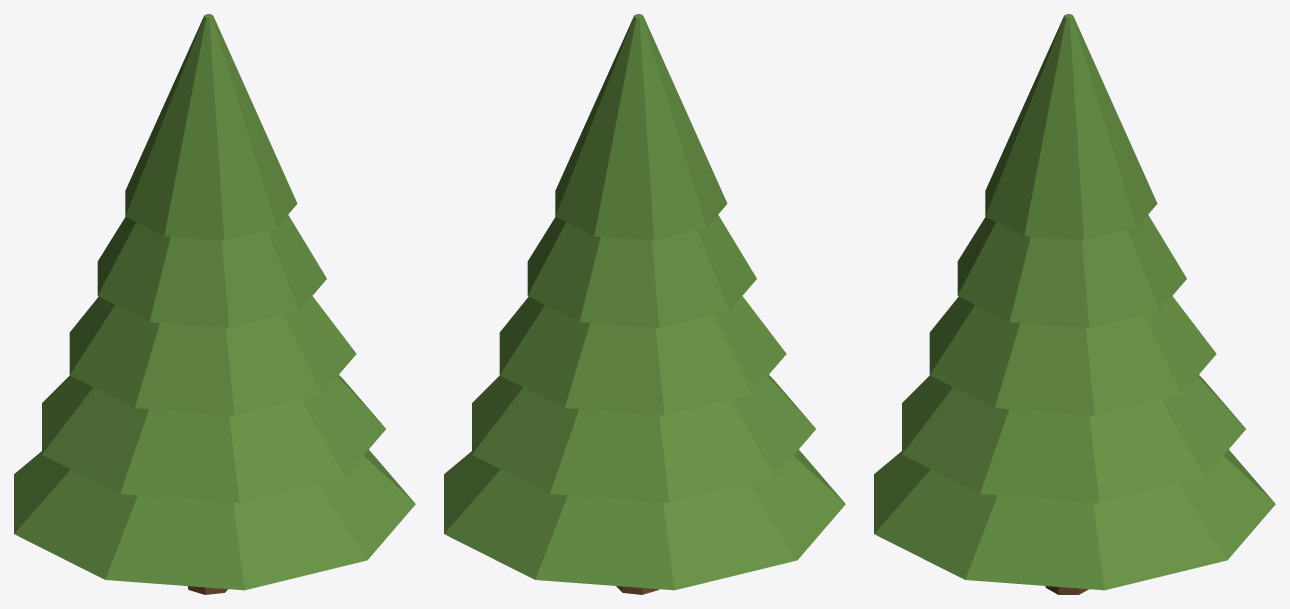
File: tree_07.glb
The picture shows the model from 3 angles, left to right: view 1: azimuth 30°, elevation 25°; view 2: azimuth 150°, elevation 25°; view 3: azimuth 270°, elevation 25°; orthographic projection.
Visible parts, largest first — view 1: tree_07; view 2: tree_07; view 3: tree_07.
Part boxes in pixels (box(x1,y1,x2,y2)): tree_07: box(14, 14, 415, 594); tree_07: box(444, 14, 845, 594); tree_07: box(874, 14, 1275, 594).
Size of the model in its own units: 2.6 by 4.01 by 2.56.
